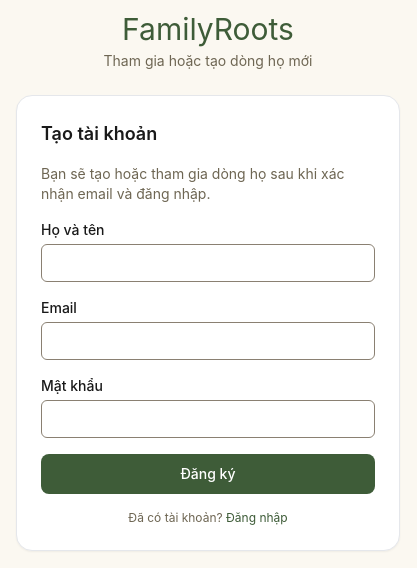
Scenario: register: a 201 shows the success screen › renders the message the backend sent, in place of the form
Type "Trần Văn A" into the field labelled "Họ và tên". click: (208, 263)
box: x1=41 y1=244 x2=375 y2=282
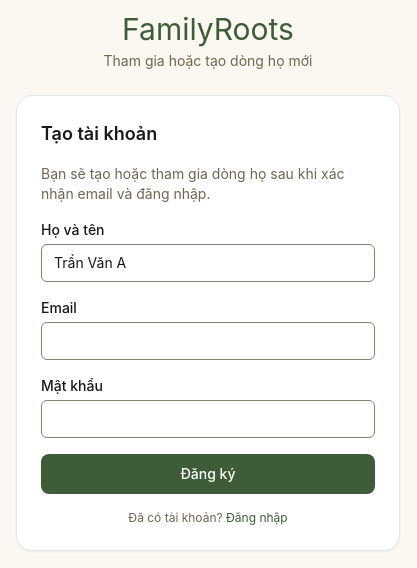
Type "a@example.com" into the field labelled "Email". click: (208, 341)
box: x1=41 y1=322 x2=375 y2=360
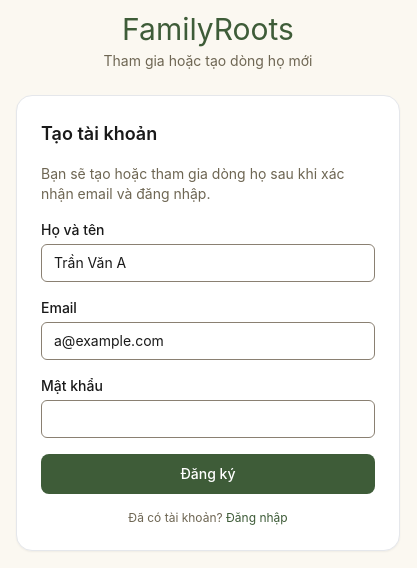
Type "correct horse battery" into the password field labelled "Mật khẩu". click: (208, 419)
box: x1=41 y1=400 x2=375 y2=438
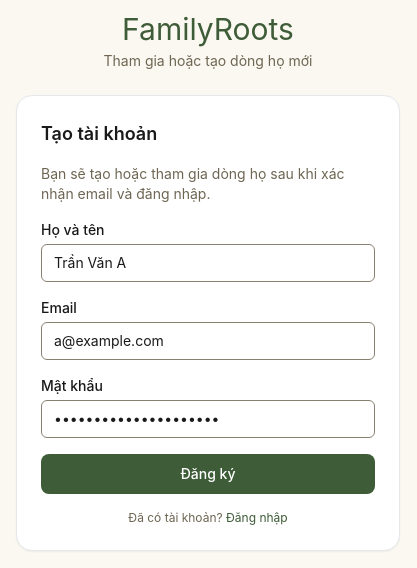
Click the button "Đăng ký". click: (208, 474)
box: x1=41 y1=454 x2=375 y2=494
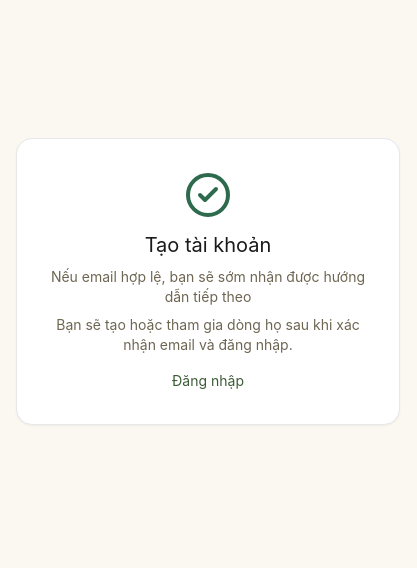
Result: the text "Nếu email hợp lệ, bạn sẽ sớm nhận được hướng dẫn tiếp theo" is shown at x1=49 y1=266 x2=367 y2=306
Result: the form is gone
